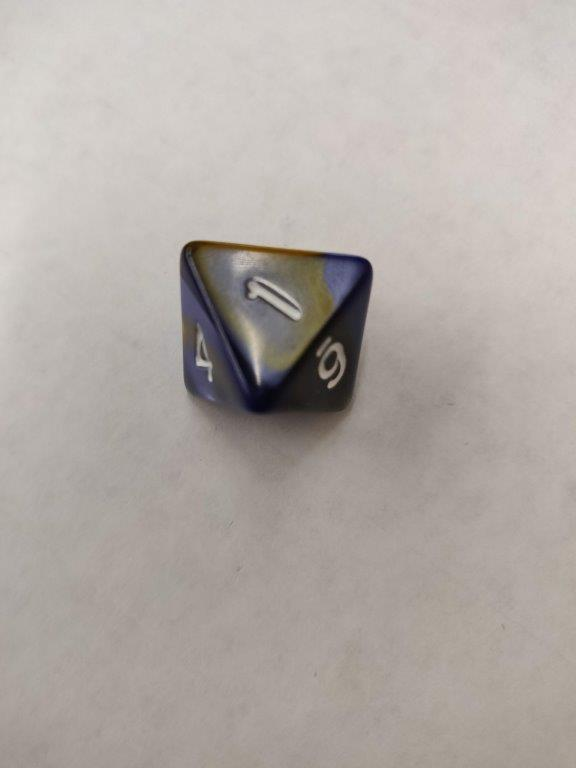d8-1: (180, 239, 375, 418)
